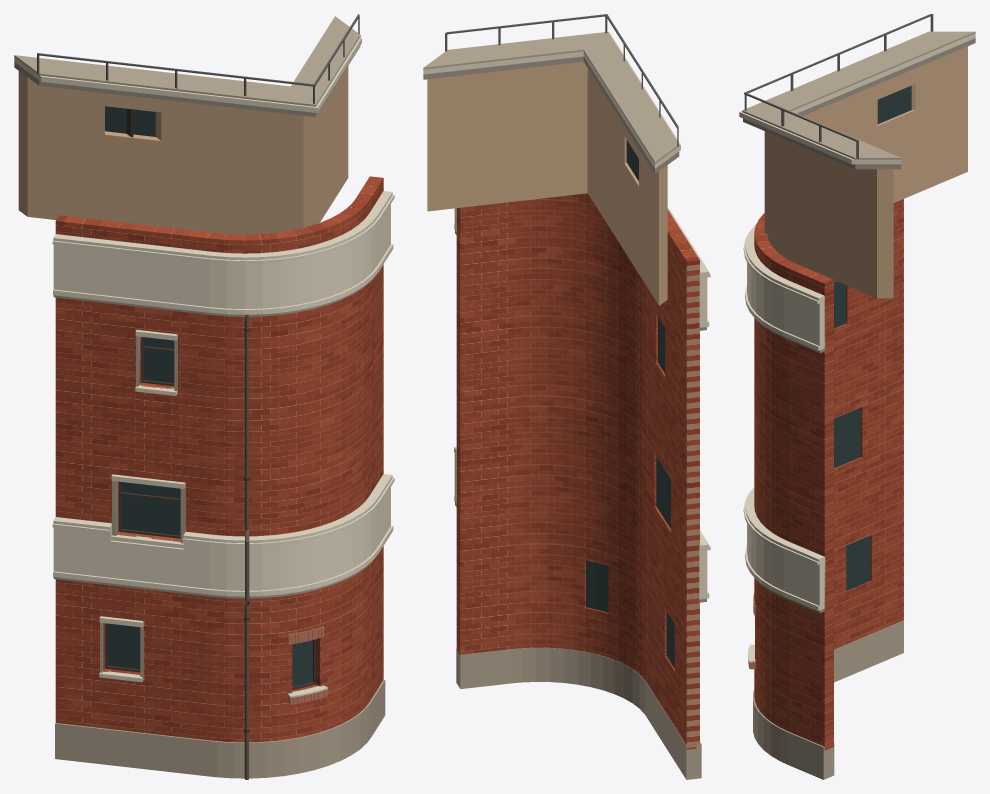
File: changning-yuyuan-749-no65-red-brick-corner-lod.glb
The picture shows the model from 3 angles, left to right: view 1: azimuth 30°, elevation 25°; view 2: azimuth 150°, elevation 25°; view 3: azimuth 270°, elevation 25°; orthographic projection. The views are drawn at different scales.
Visible parts, largest first — view 1: 愚园路749弄65号花园住宅红砖圆转角; view 2: 愚园路749弄65号花园住宅红砖圆转角; view 3: 愚园路749弄65号花园住宅红砖圆转角.
Part boxes in pixels (x1,y1,x2,y2): 愚园路749弄65号花园住宅红砖圆转角: (14, 14, 394, 779); 愚园路749弄65号花园住宅红砖圆转角: (423, 14, 710, 779); 愚园路749弄65号花园住宅红砖圆转角: (739, 14, 975, 779).
Size of the model in its own units: 4.69 by 10.16 by 3.42.
11 materials, 1 textured.
